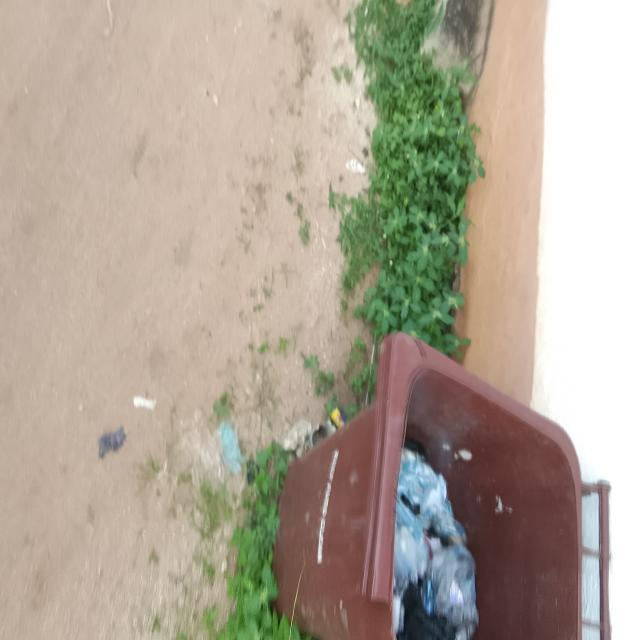half-full: (383, 330, 583, 639)
